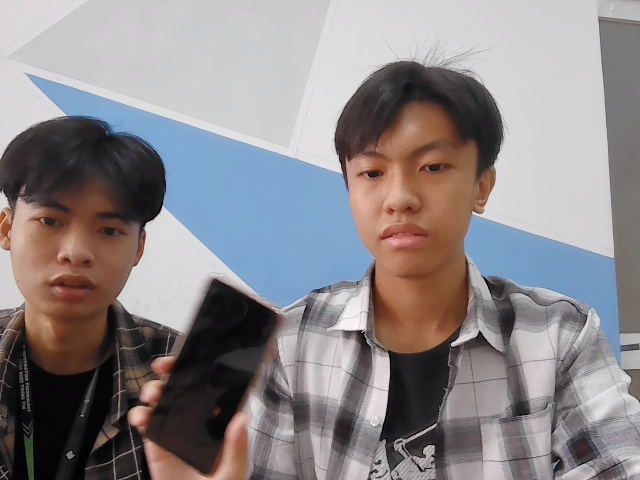human: (338, 62, 506, 287), (1, 112, 172, 312)
phone: (144, 275, 282, 462)
